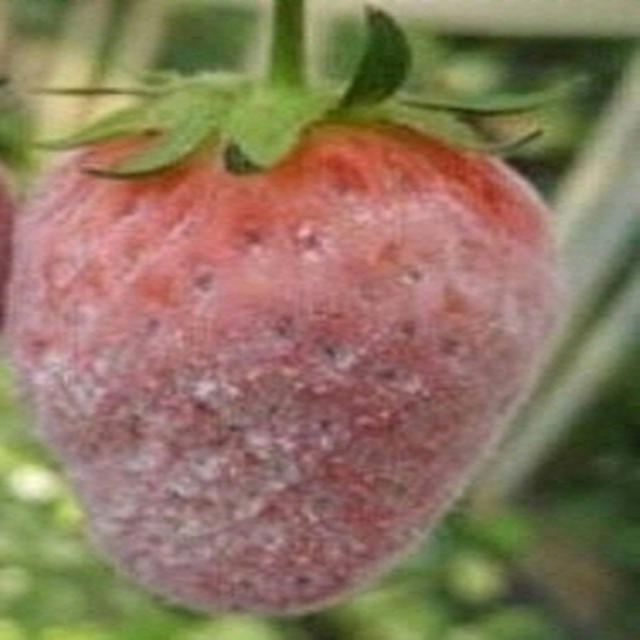Powdery Mildew Fruit: (4, 72, 563, 617)
